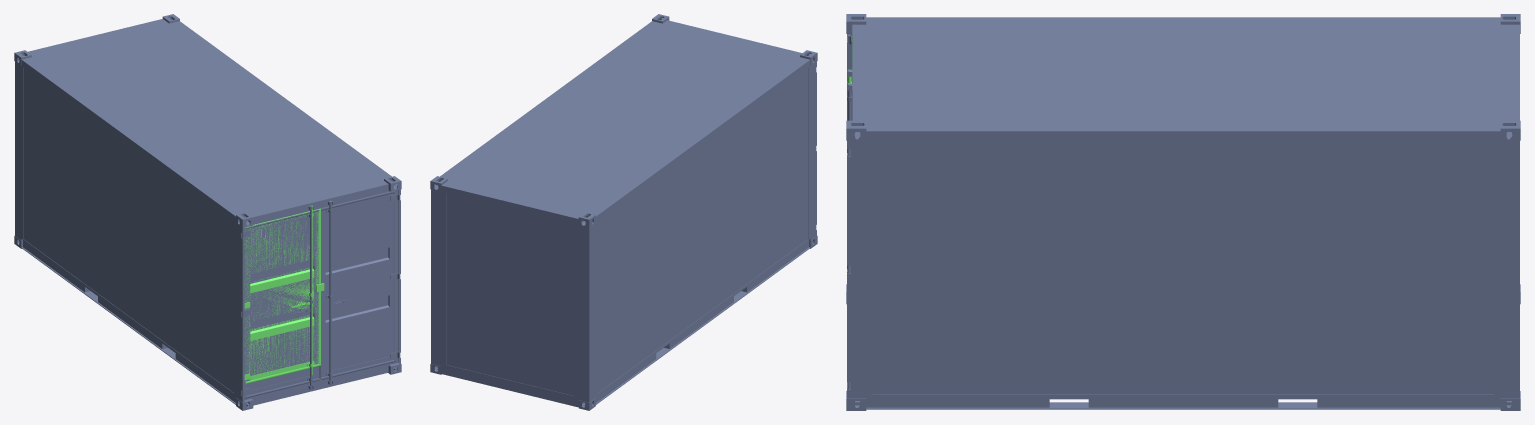
The model's file is Lagercontainer HC 2800 BC 2430.obj.
3 views of the same model, side by side, from view 1: azimuth 30°, elevation 25°; view 2: azimuth 150°, elevation 25°; view 3: azimuth 270°, elevation 25° (orthographic). The views are drawn at different scales.
Visible parts, largest first — view 1: |TEst_lagercon~0|Root|Test_Lagercon1~0-1|color, |TEst_lagercon~0|Root|Test_lagercon2~0-1|color-2, |TEst_lagercon~0|Root|SpiegelnTest_lagercon2~0-3|color-4, |TEst_lagercon~0|Root|Test_lagercon3~0-5|color-3; view 2: |TEst_lagercon~0|Root|Test_Lagercon1~0-1|color; view 3: |TEst_lagercon~0|Root|Test_Lagercon1~0-1|color.
Part boxes in pixels (x1,y1,x2,y2): |TEst_lagercon~0|Root|Test_Lagercon1~0-1|color: [14, 14, 401, 410]; |TEst_lagercon~0|Root|Test_lagercon2~0-1|color-2: [319, 190, 400, 384]; |TEst_lagercon~0|Root|SpiegelnTest_lagercon2~0-3|color-4: [242, 205, 319, 398]; |TEst_lagercon~0|Root|Test_lagercon3~0-5|color-3: [244, 205, 324, 383]; |TEst_lagercon~0|Root|Test_Lagercon1~0-1|color: [430, 14, 817, 410]; |TEst_lagercon~0|Root|Test_Lagercon1~0-1|color: [846, 14, 1520, 410].
Bounding box in the file's own units: 2.43 × 2.8 × 6.06.
